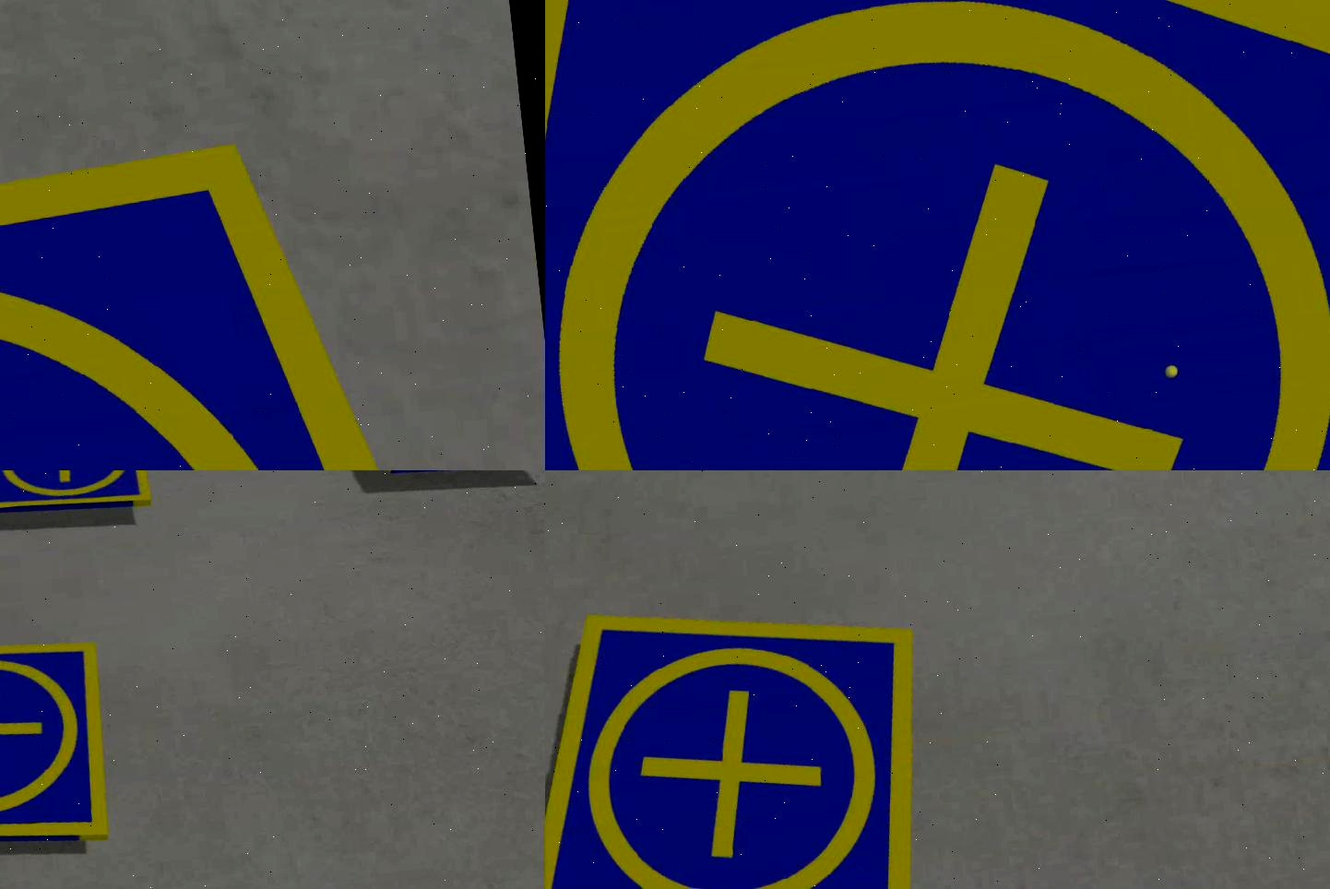small_base: (545, 1, 1330, 471), (1, 120, 488, 471), (545, 579, 951, 889), (1, 622, 125, 879), (1, 471, 157, 527)
